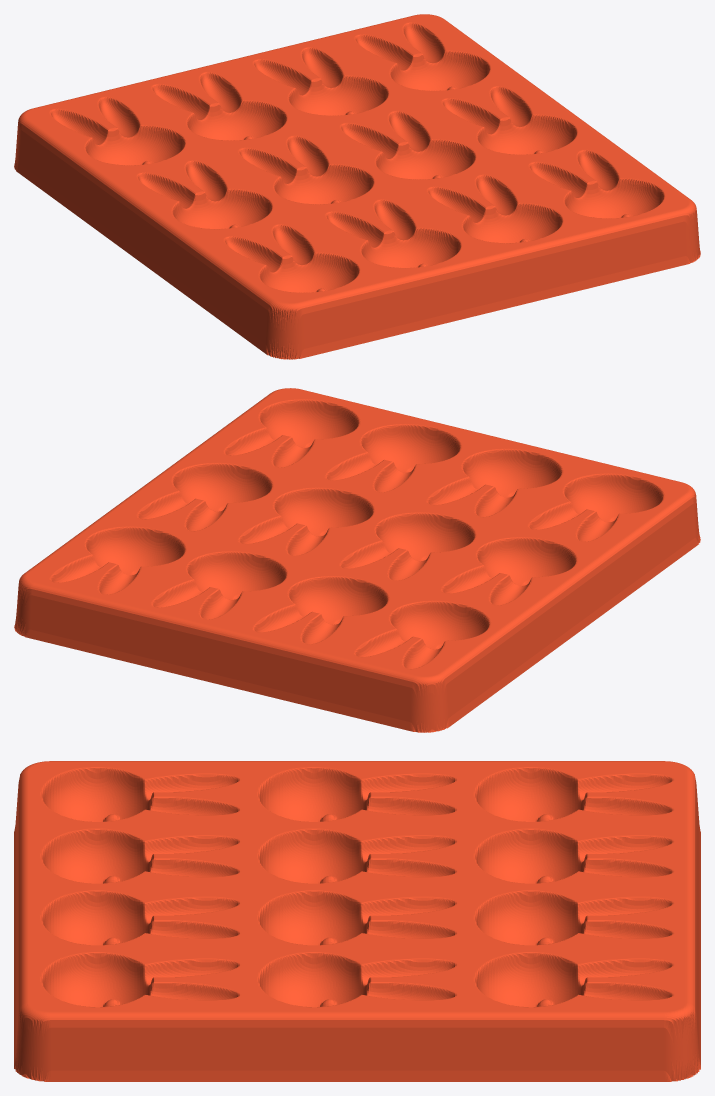
File: mold.glb
3 renders of one model, top to bottom at view 1: azimuth 30°, elevation 25°; view 2: azimuth 150°, elevation 25°; view 3: azimuth 270°, elevation 25°, orthographic. The views are drawn at different scales.
Parts seen in each view (by area): view 1: geometry_0; view 2: geometry_0; view 3: geometry_0.
Part boxes in pixels (box(x1,y1,x2,y2)): geometry_0: box(14, 14, 700, 359); geometry_0: box(14, 388, 700, 732); geometry_0: box(14, 761, 700, 1081).
Size of the model in its own units: 0.1546 by 0.0175 by 0.171.
